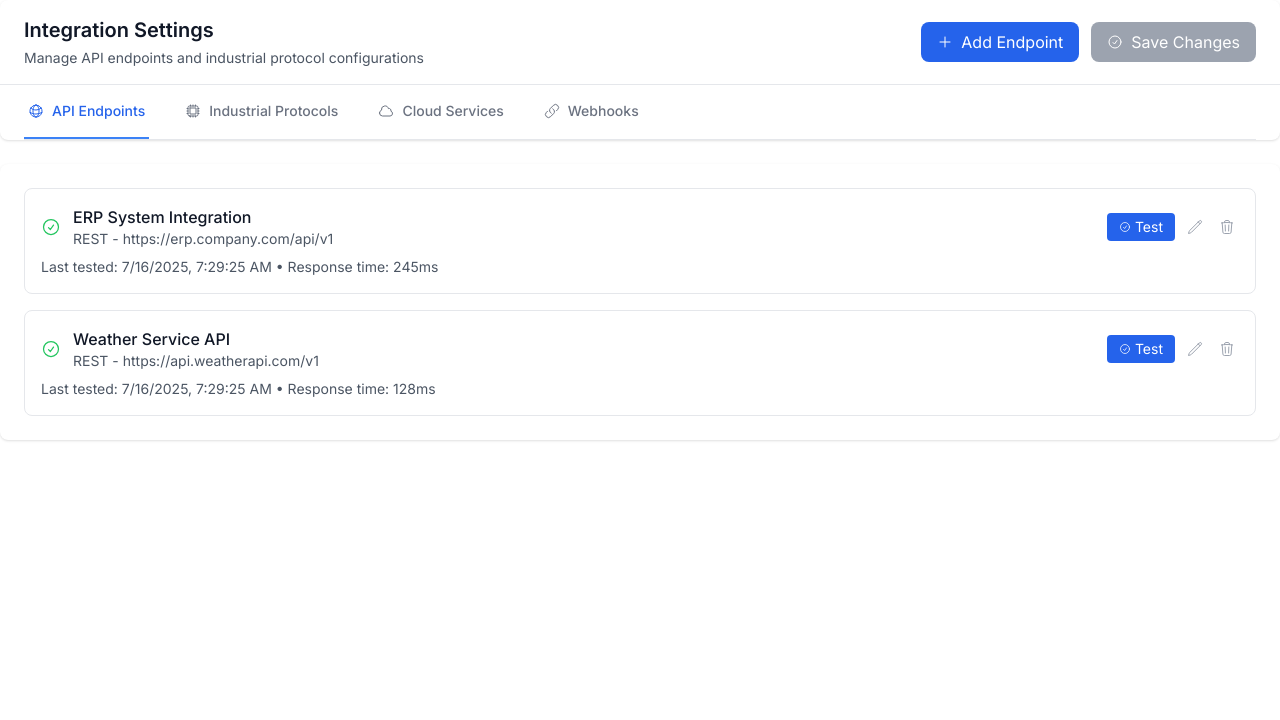
IntegrationSettings › can switch to protocols tab
Click the button "Industrial Protocols" at coordinates (262, 112), box [181,85,342,139]
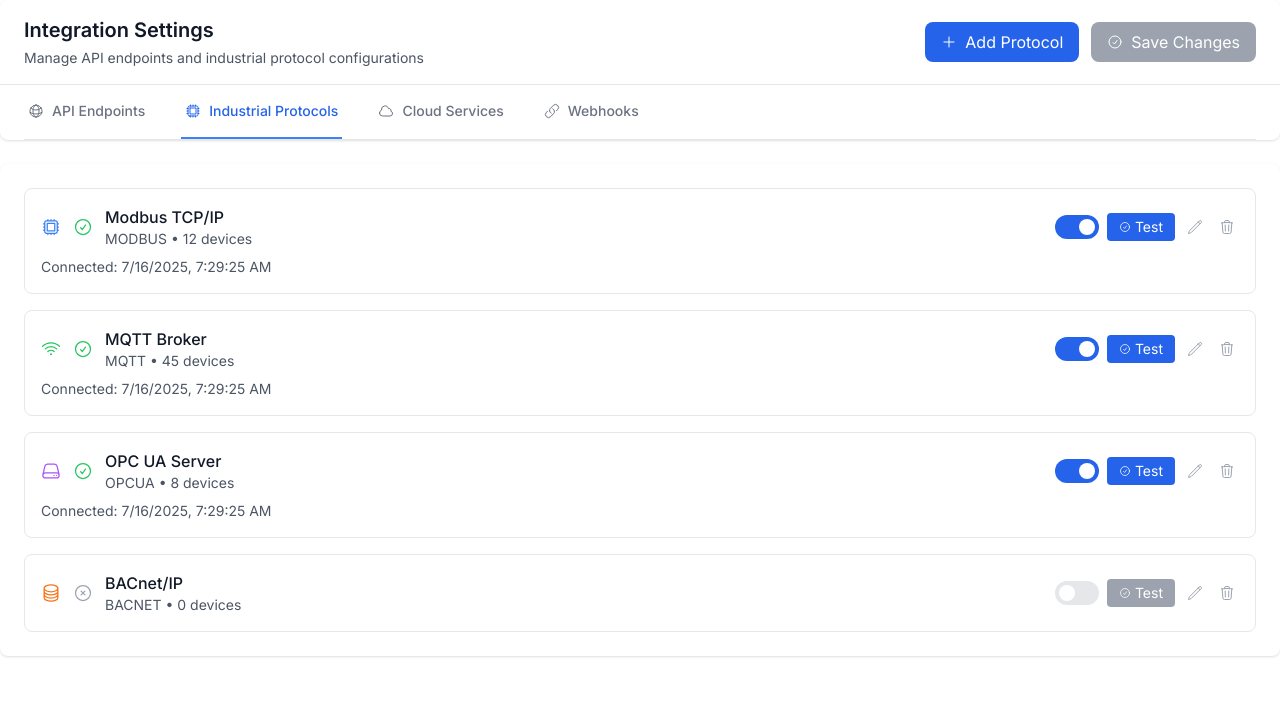
Result: the heading "Modbus TCP/IP" is shown at [105,207,224,227]
Result: the heading "MQTT Broker" is shown at [105,329,207,349]
Result: the heading "OPC UA Server" is shown at [105,449,234,473]
